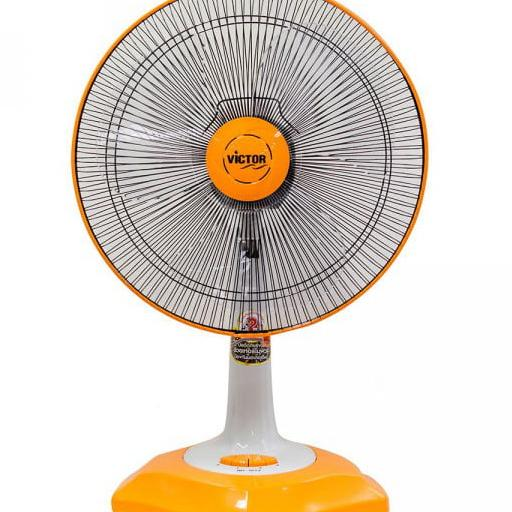Fan: (69, 0, 427, 335)
